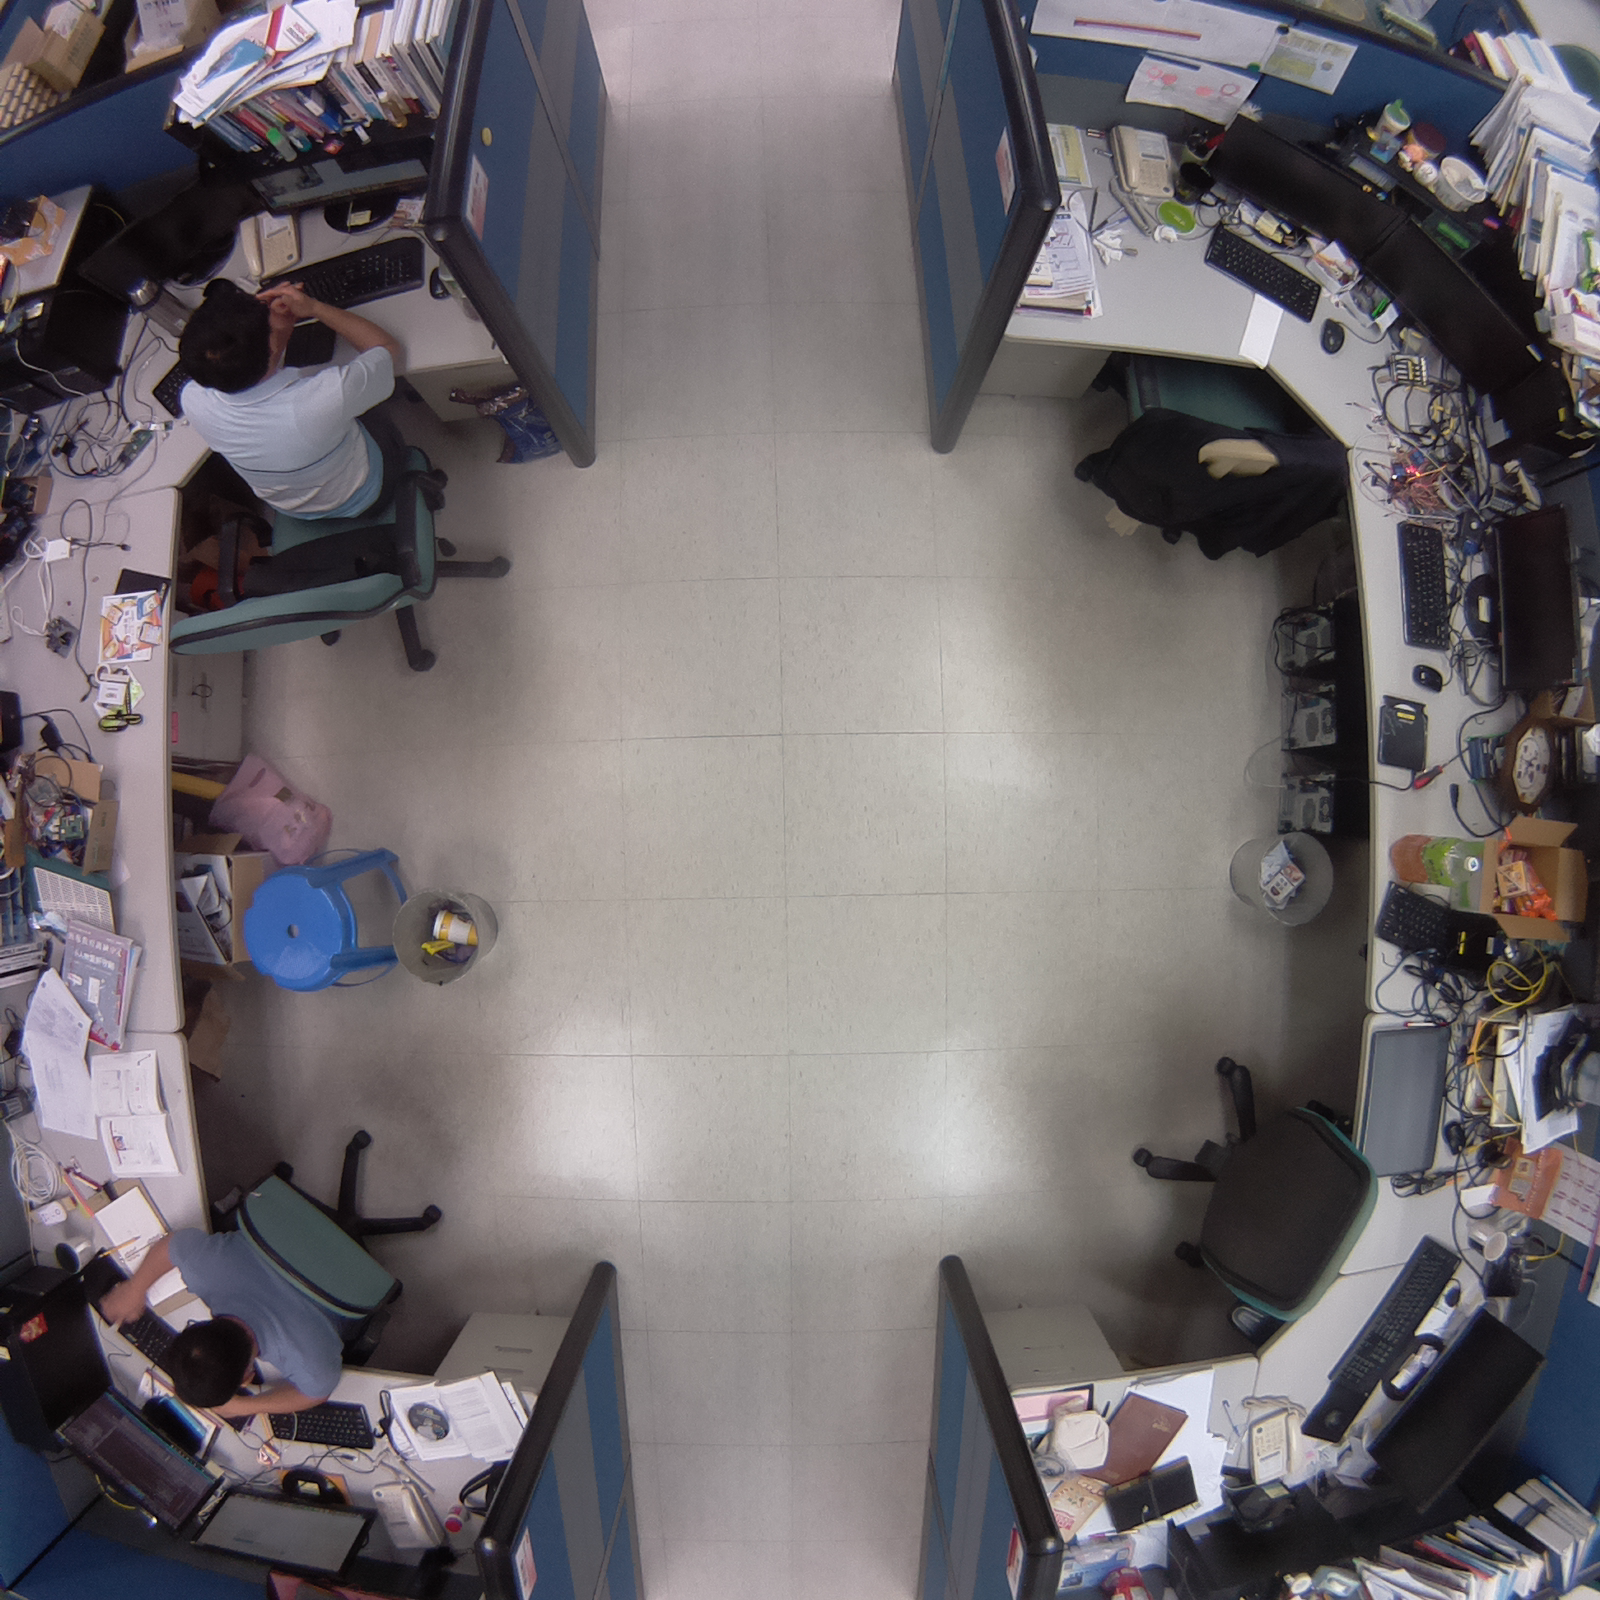chair: (1114, 1037, 1394, 1360), (1050, 324, 1365, 578)
head: (172, 269, 292, 396), (157, 1307, 268, 1416)
sitting: (153, 264, 522, 696), (98, 1114, 458, 1434)
